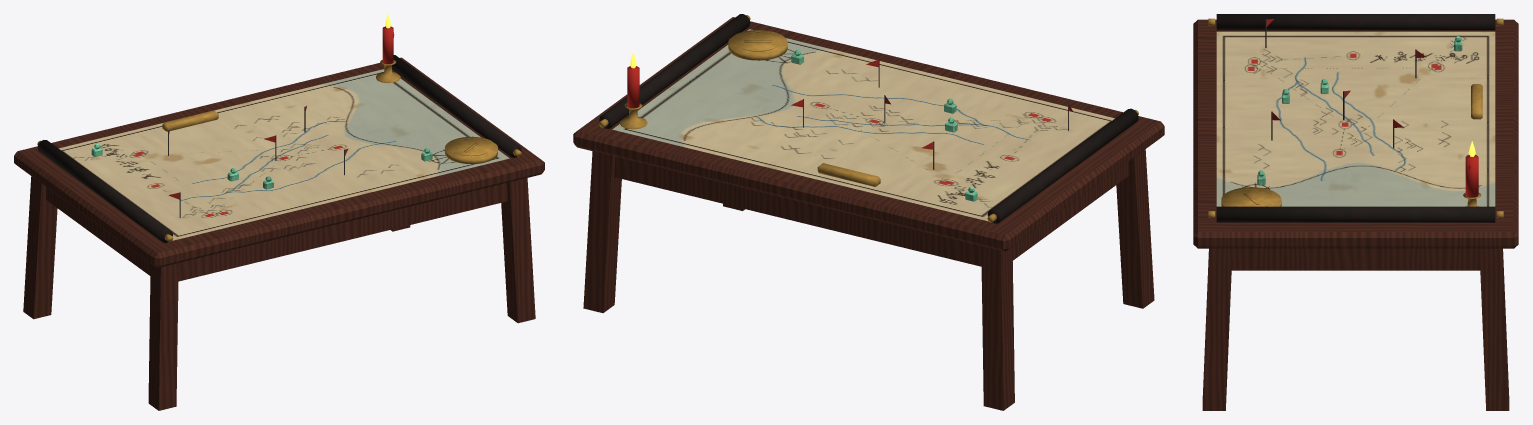
The model's file is map_table.glb.
The picture shows the model from 3 angles, left to right: view 1: azimuth 30°, elevation 25°; view 2: azimuth 150°, elevation 25°; view 3: azimuth 270°, elevation 25°; orthographic projection. The views are drawn at different scales.
Parts seen in each view (by area): view 1: WarMap, MapTable, MapRollers, TableBrass, ArmyTokens; view 2: WarMap, MapTable, MapRollers, TableBrass, ArmyTokens, Candle; view 3: WarMap, MapTable, MapRollers, TableBrass, Candle, ArmyTokens.
Boxes of the visible parts, x1=… form: WarMap: x1=58, y1=69, x2=509, y2=240; MapTable: x1=14, y1=57, x2=544, y2=410; MapRollers: x1=37, y1=55, x2=521, y2=242; TableBrass: x1=37, y1=60, x2=521, y2=241; ArmyTokens: x1=91, y1=143, x2=432, y2=189; WarMap: x1=612, y1=29, x2=1114, y2=221; MapTable: x1=573, y1=17, x2=1164, y2=410; MapRollers: x1=599, y1=14, x2=1138, y2=223; TableBrass: x1=599, y1=15, x2=1138, y2=222; ArmyTokens: x1=791, y1=49, x2=977, y2=201; Candle: x1=627, y1=66, x2=639, y2=108; WarMap: x1=1216, y1=31, x2=1495, y2=206; MapTable: x1=1193, y1=19, x2=1518, y2=410; MapRollers: x1=1216, y1=14, x2=1495, y2=222; TableBrass: x1=1208, y1=18, x2=1503, y2=217; Candle: x1=1465, y1=155, x2=1478, y2=197; ArmyTokens: x1=1257, y1=36, x2=1462, y2=185.
Size of what is drawn, in the model's own units: 2.2 by 1.21 by 1.4.
9 materials, 7 textured.
